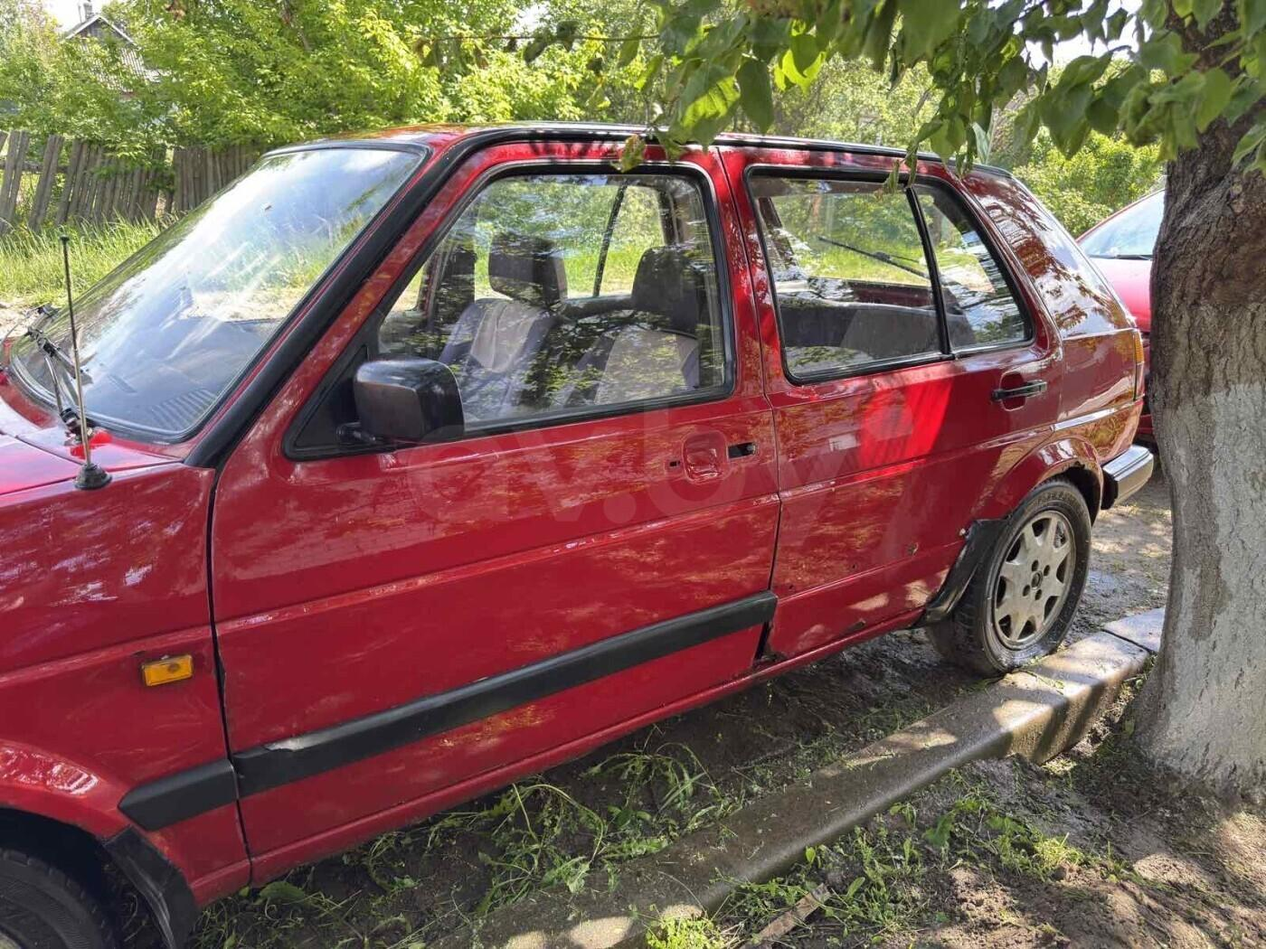Golf_1983-1992: (0, 112, 1151, 949)
